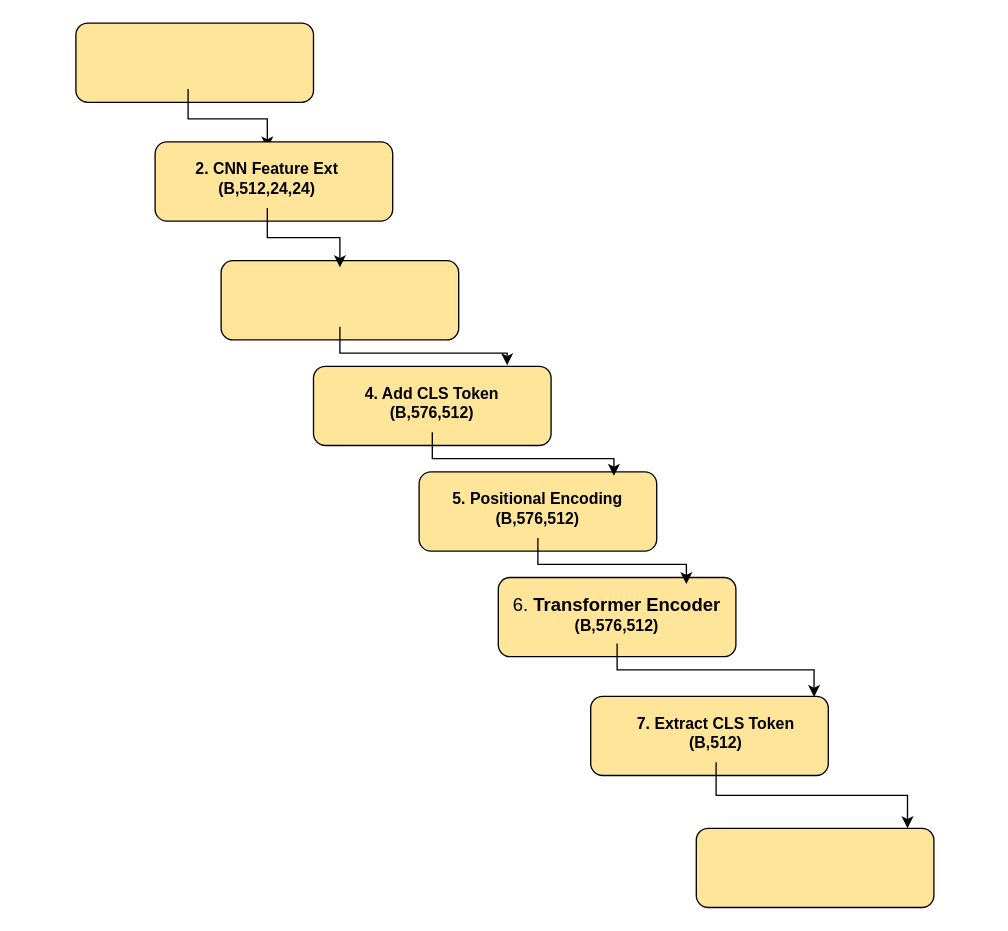
Some shapes in this 1008 by 931 pixel diagram are drawn without their labels. Each missing label, with the centre of its shape:
"1. Input Image (B,3,384,384)" belongs at [194,62].
"3. Patch Embedding (B,576,512)" belongs at [339,299].
"8. Classification Head (B,2)" belongs at [814,867].
